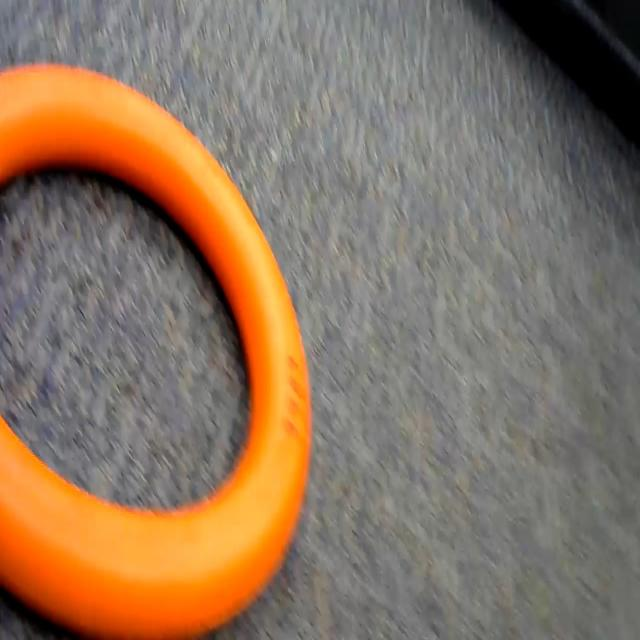note: (0, 58, 327, 640)
